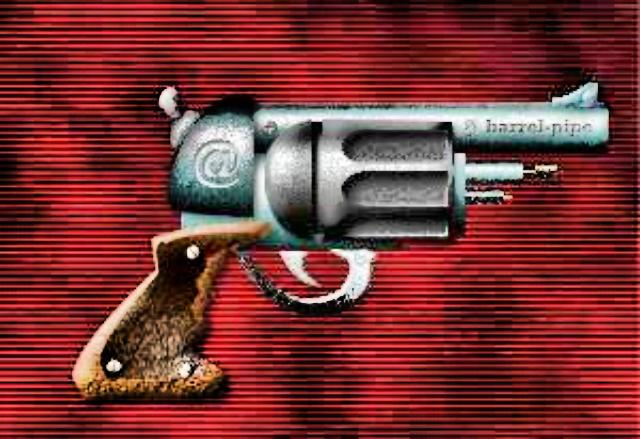pistol: (54, 83, 612, 405)
